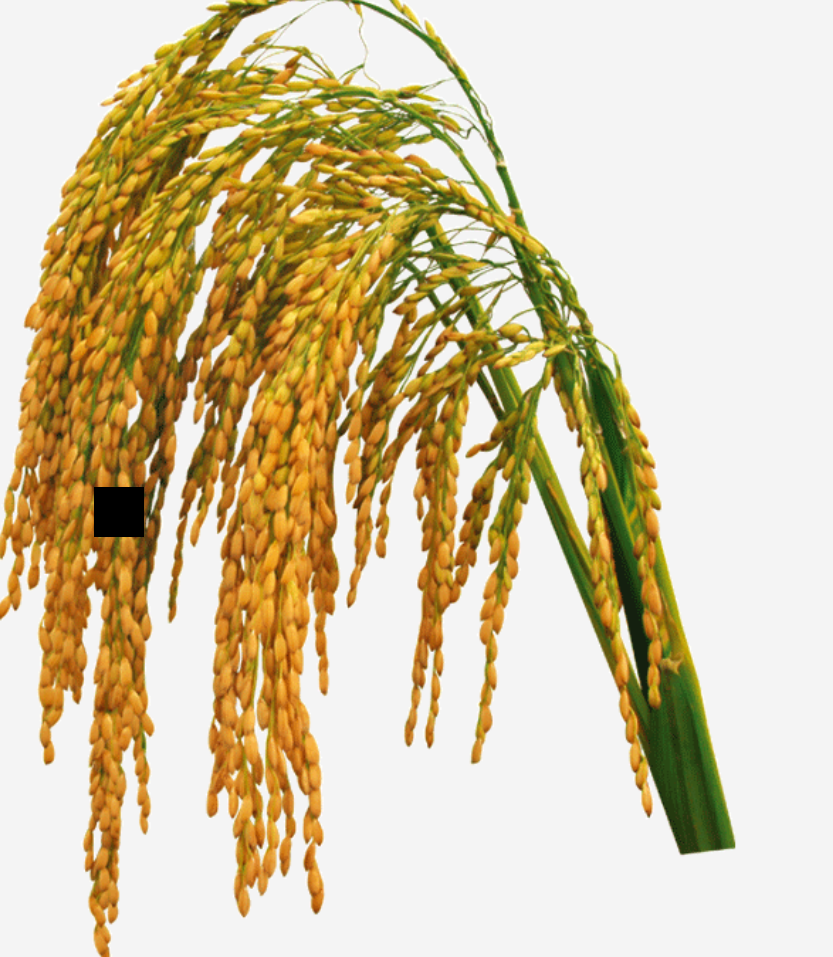rice: (2, 21, 491, 956)
